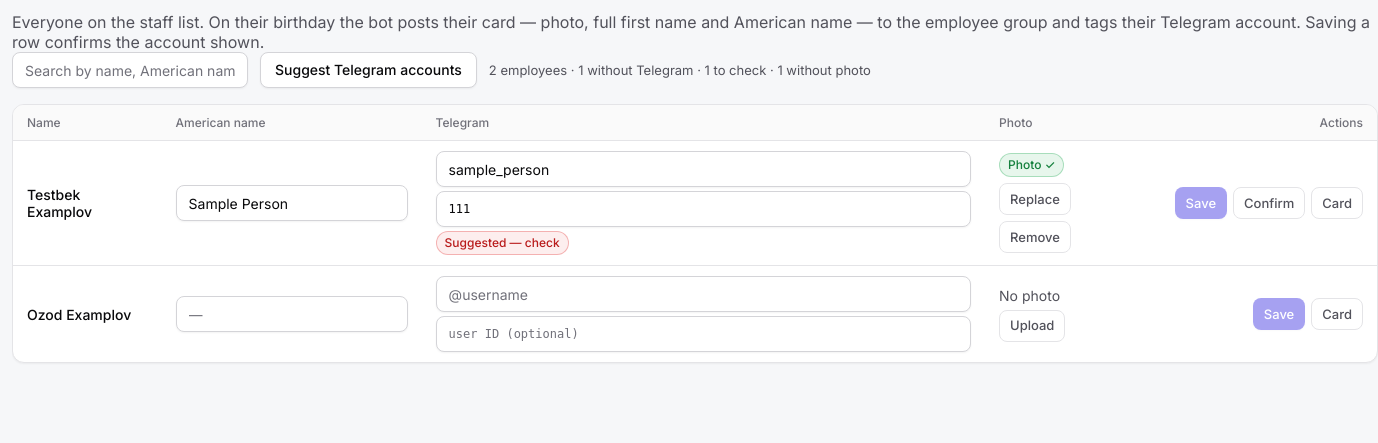
Test case: Suggest Telegram accounts reports how many were suggested
Check: the text "Testbek Examplov" is shown, box [13,140,162,266]
Click the button "Suggest Telegram accounts".
click(368, 70)  # box [260,52,477,88]
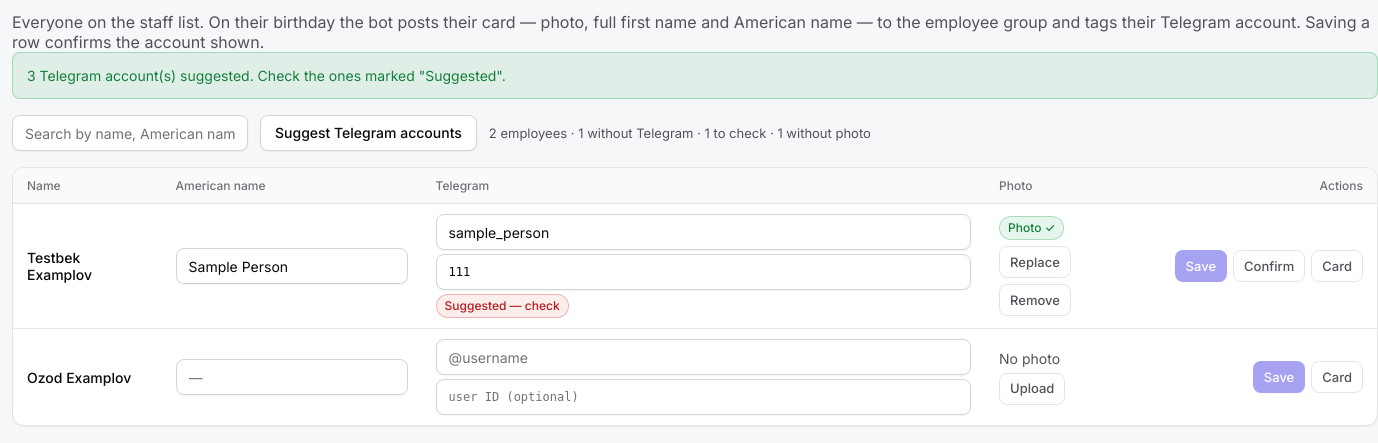
Check: the text "3 Telegram account(s) suggested" is shown, box [27,67,506,84]
